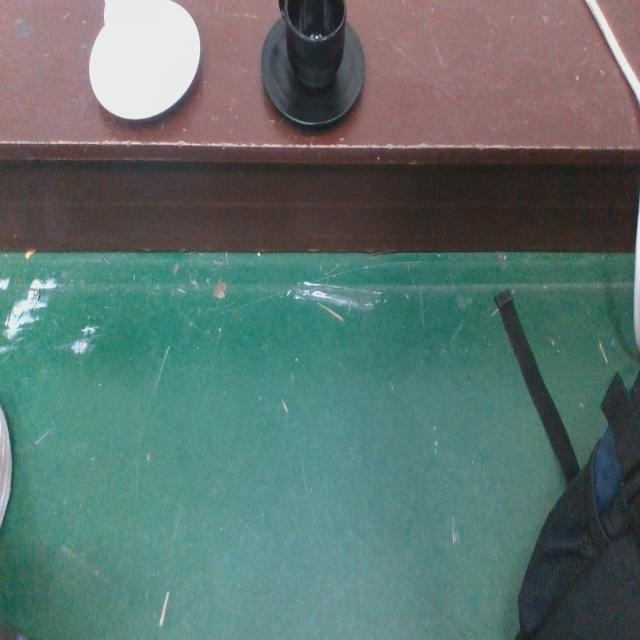black: (258, 0, 369, 134)
white: (87, 0, 202, 124)
